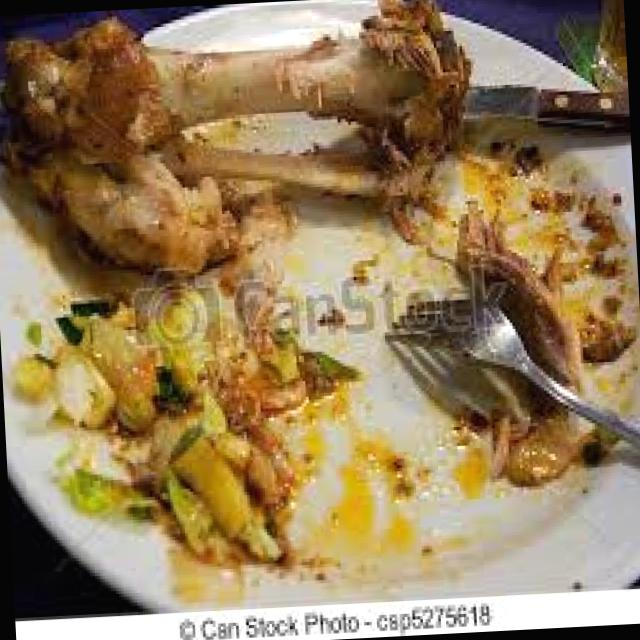metal: (388, 300, 639, 449), (466, 85, 539, 119)
organic: (0, 2, 378, 586)
